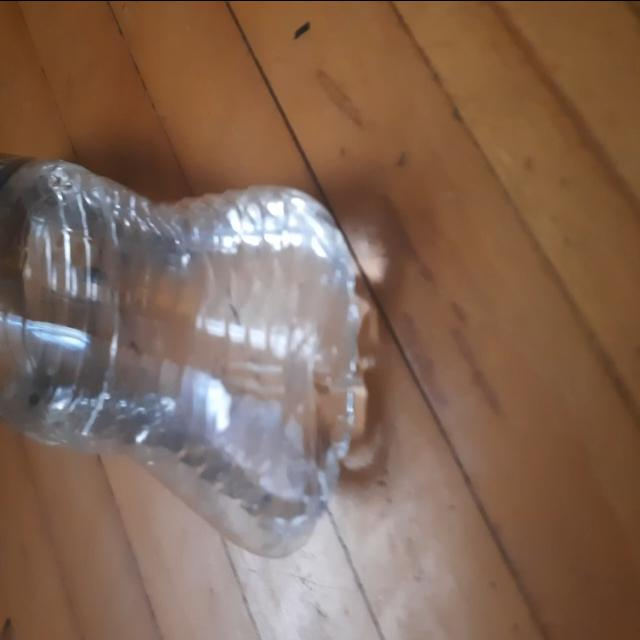Plastic: (0, 154, 379, 560)
